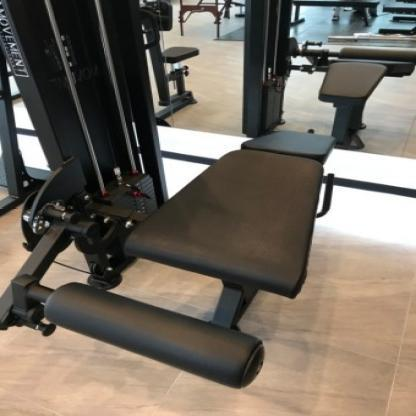reg curl machine: (0, 0, 340, 400)
